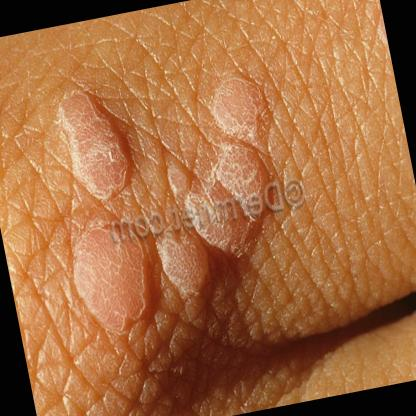Warts: (40, 72, 145, 212), (62, 220, 155, 348), (194, 51, 280, 153)
